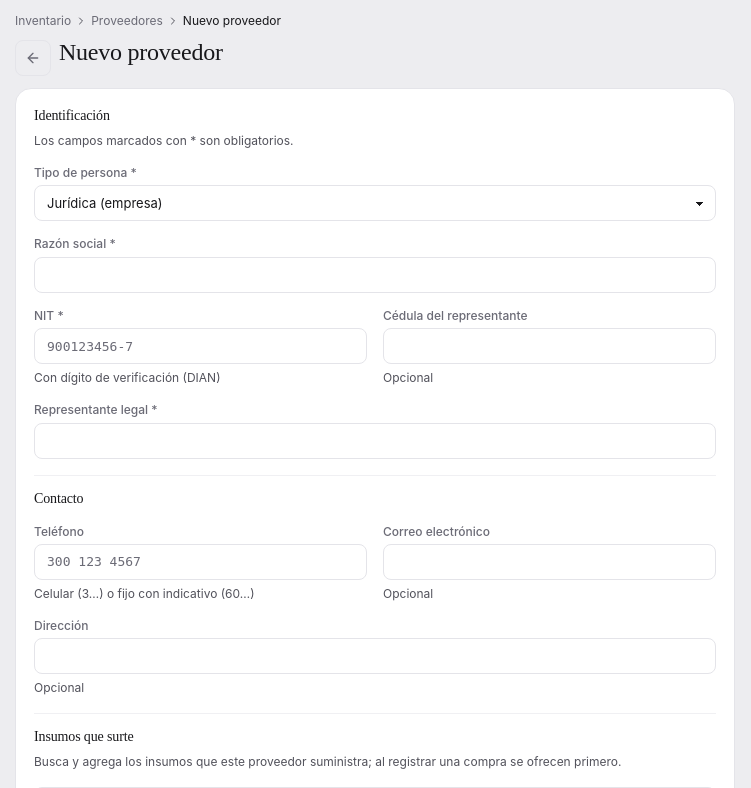
Test: Proveedor nuevo — validación y formulario condicional › el NIT no admite letras y el nombre no admite dígitos (bloqueo al teclear)
Type "89a0903938x8" into the field labelled "NIT *" at [200, 346], box [34,328,367,364]
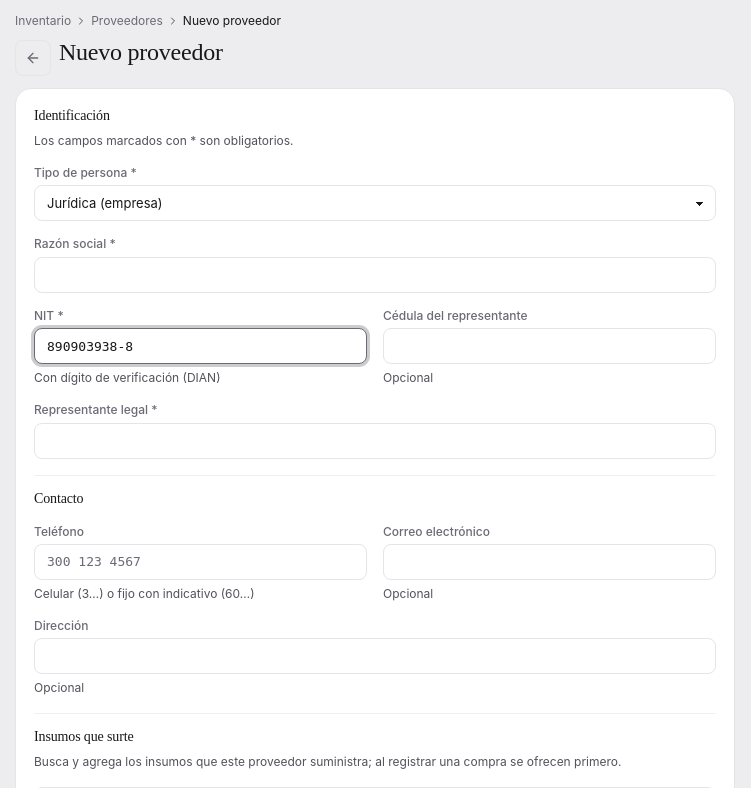
Expected: the field labelled "NIT *" holds "890903938-8", [34,328,367,364]
Type "Juan 123 Mora" into the field labelled "Representante legal *" at [375, 441], box [34,423,716,459]
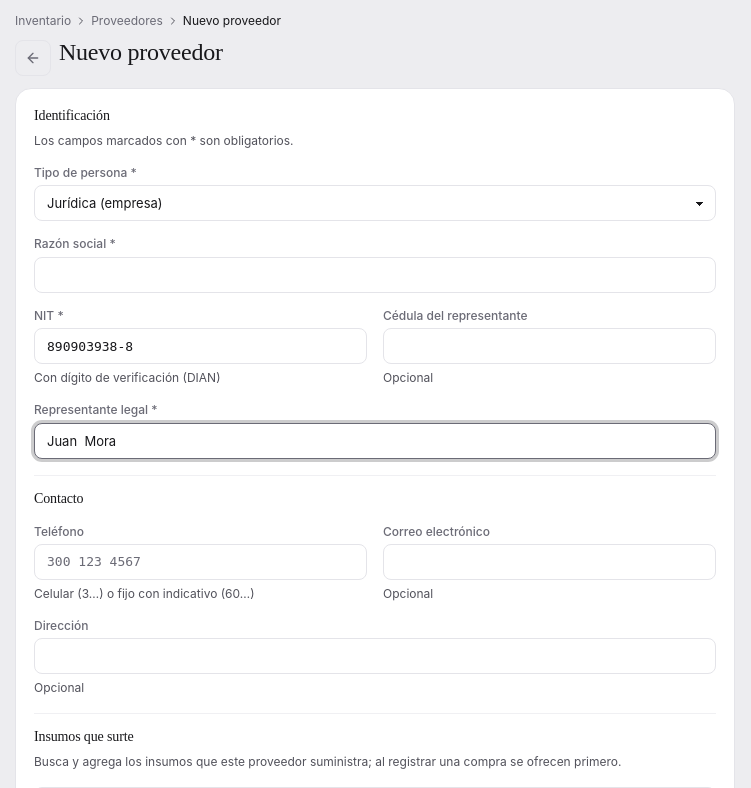
Expected: the field labelled "Representante legal *" holds "Juan  Mora", [34,423,716,459]
